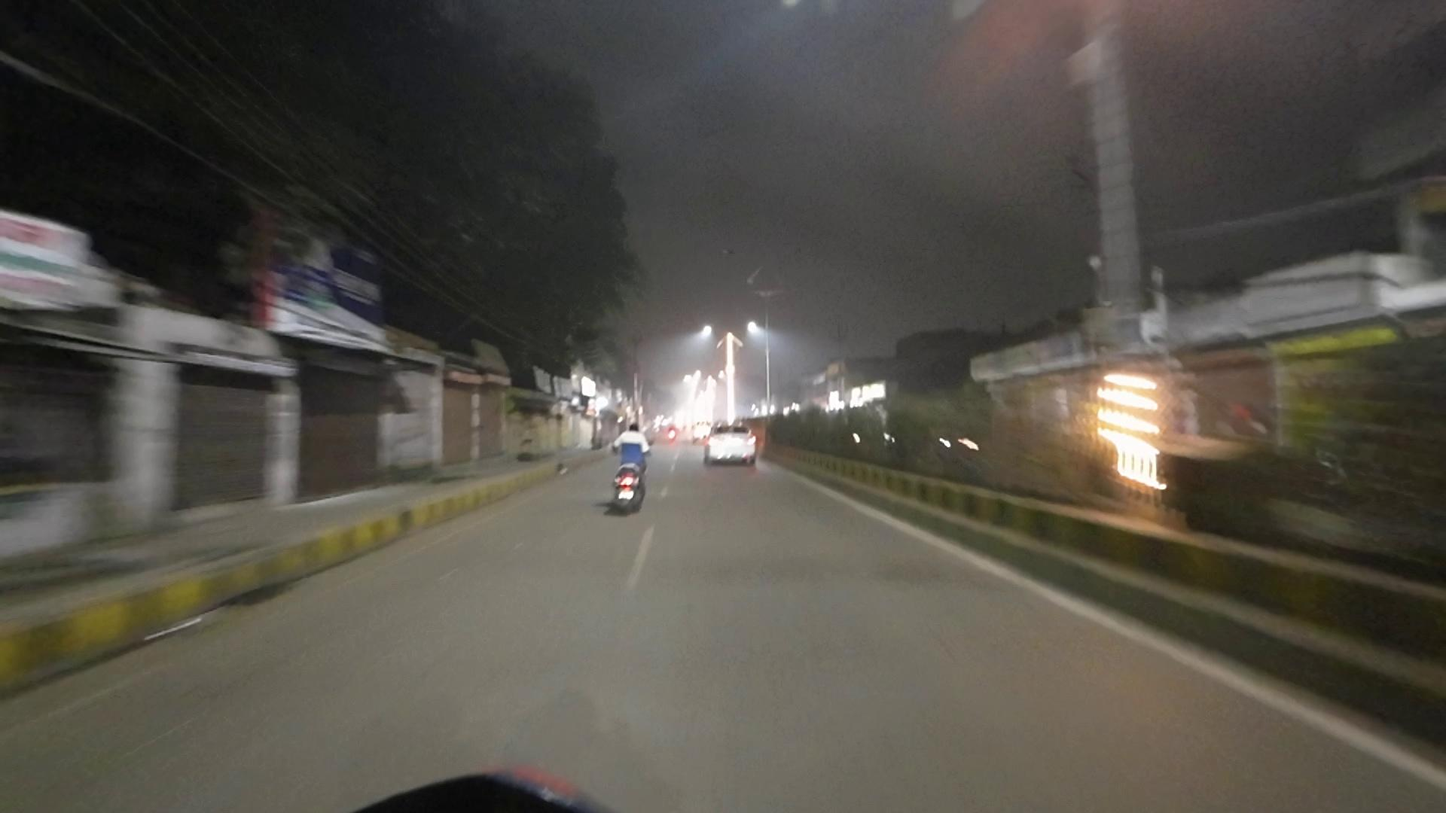streetlight: (722, 246, 764, 261)
